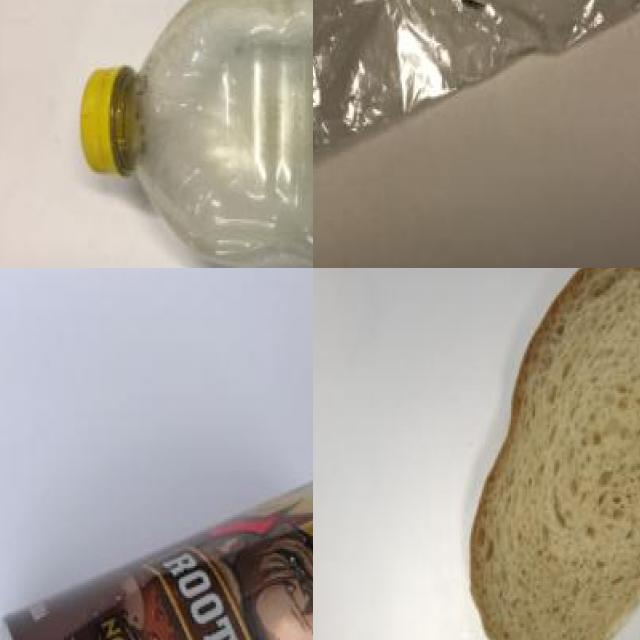compost: (466, 268, 640, 640)
plastic: (74, 0, 313, 268), (0, 459, 313, 640)
trash: (313, 0, 640, 183)
